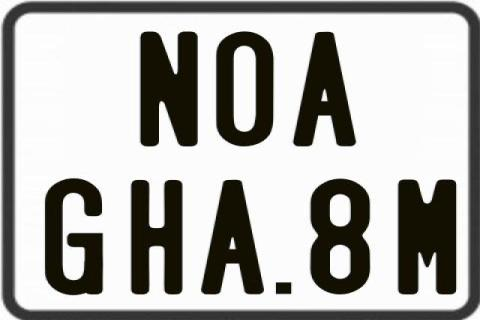0: (214, 32, 275, 150), (307, 178, 368, 294)
A: (292, 30, 358, 146), (198, 180, 264, 296)
G: (42, 179, 105, 295)
H: (129, 177, 184, 293)
M: (397, 180, 459, 298)
N: (138, 30, 202, 146)
